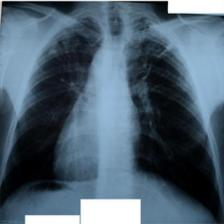tuberculosis: (1, 12, 224, 224)
